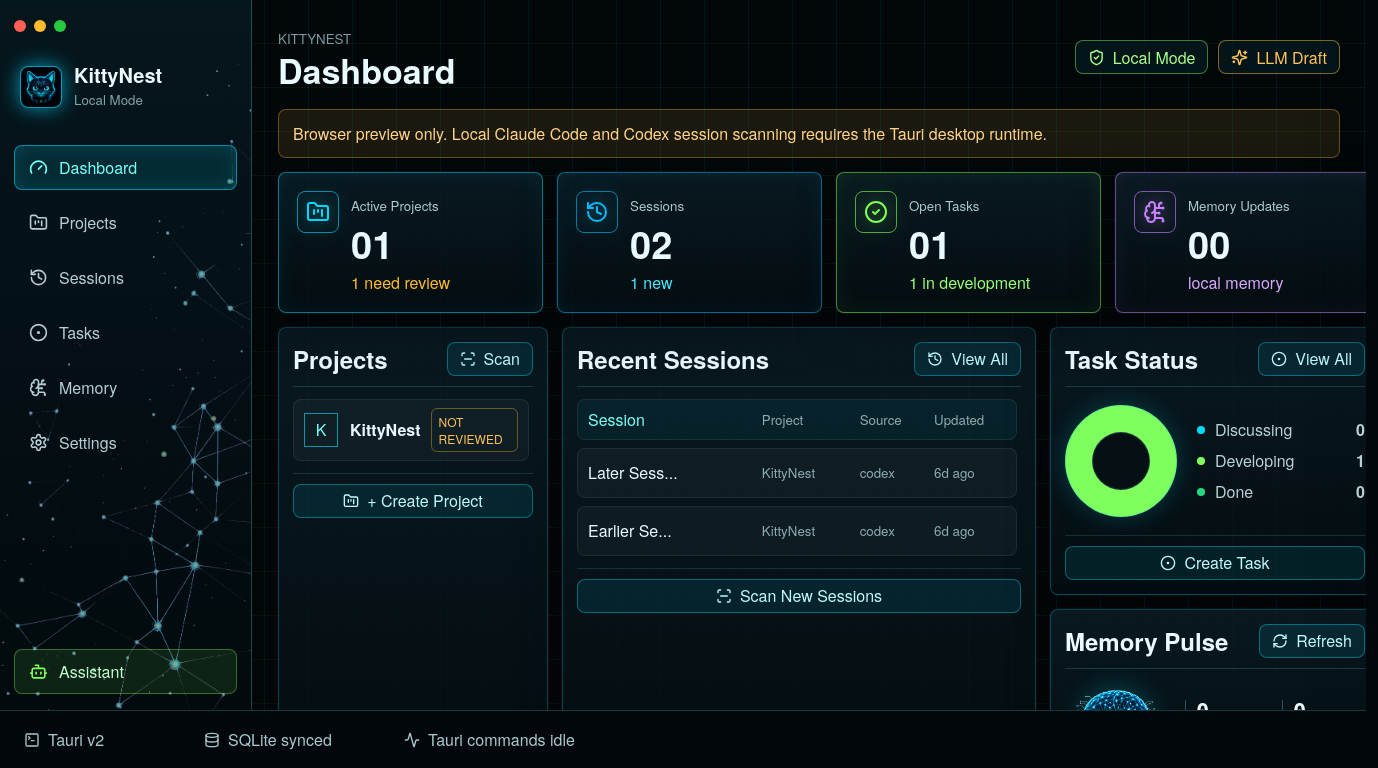
Test case: KittyNest dashboard › renders task detail metadata and session summary cards
Click the button "Tasks" at (126, 332), box x1=14 y1=310 x2=237 y2=355
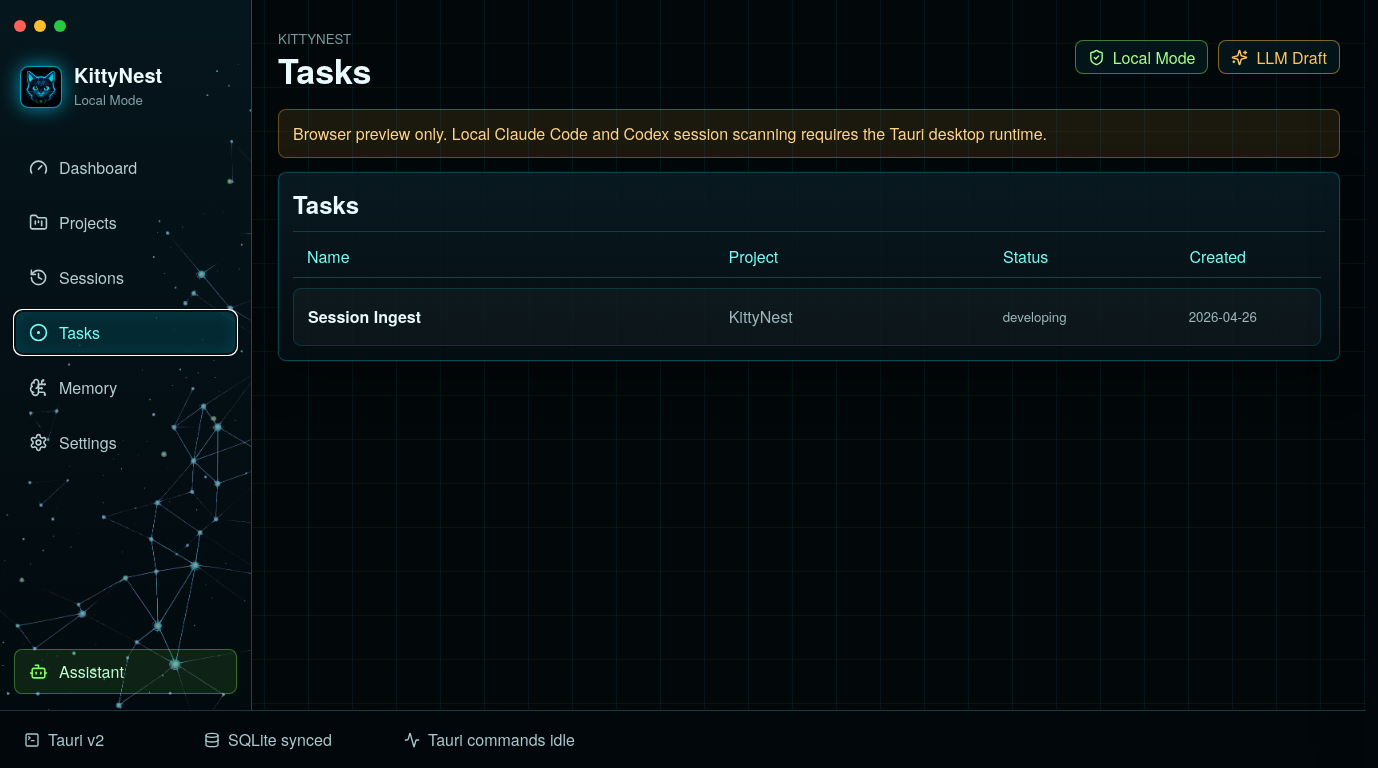
Click the button "Session Ingest KittyNest developing 2026-04-26" at (365, 317), box x1=293 y1=288 x2=1321 y2=346
(page scrolled)
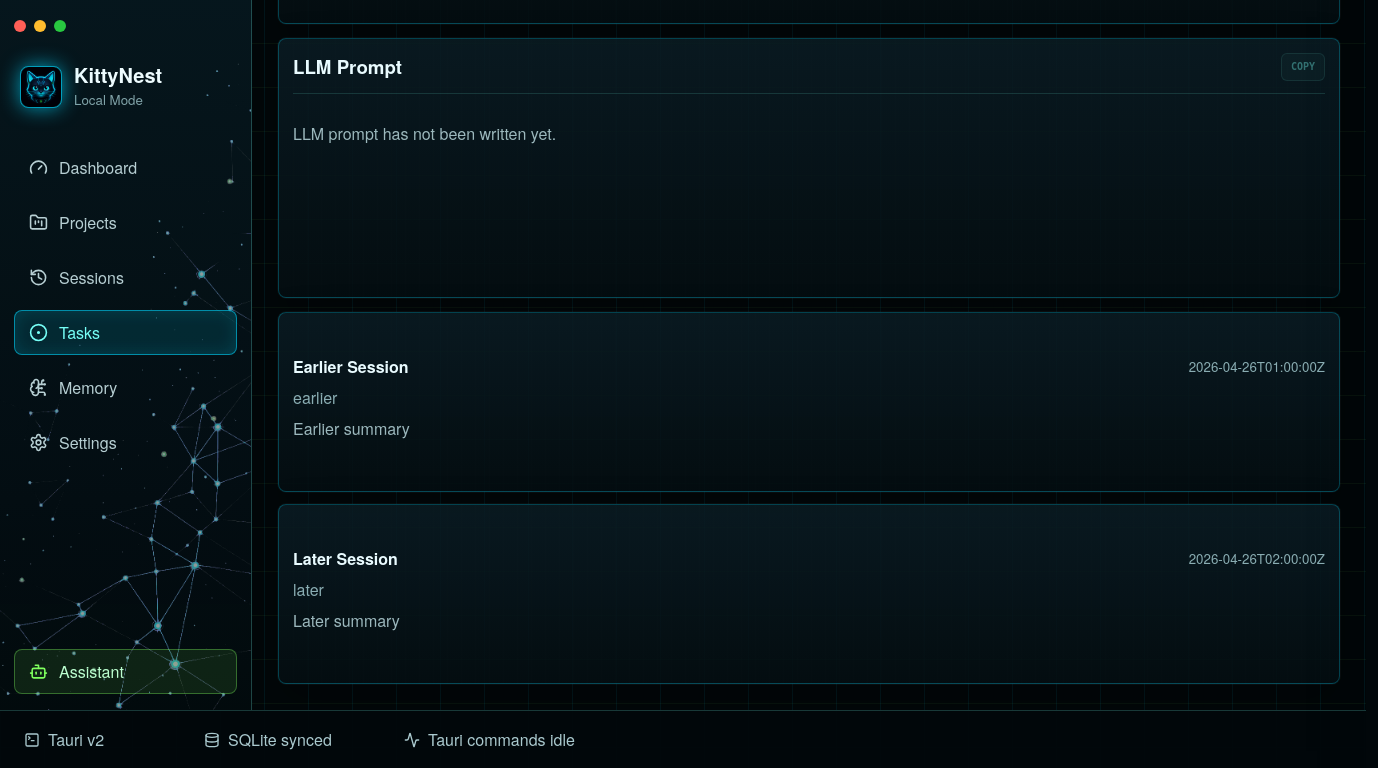
Expected: the button with aria-label "Open session" shows "Earlier summary", x1=278 y1=312 x2=1340 y2=492
Expected: the button with aria-label "Open session" shows "Later summary", x1=278 y1=504 x2=1340 y2=684
